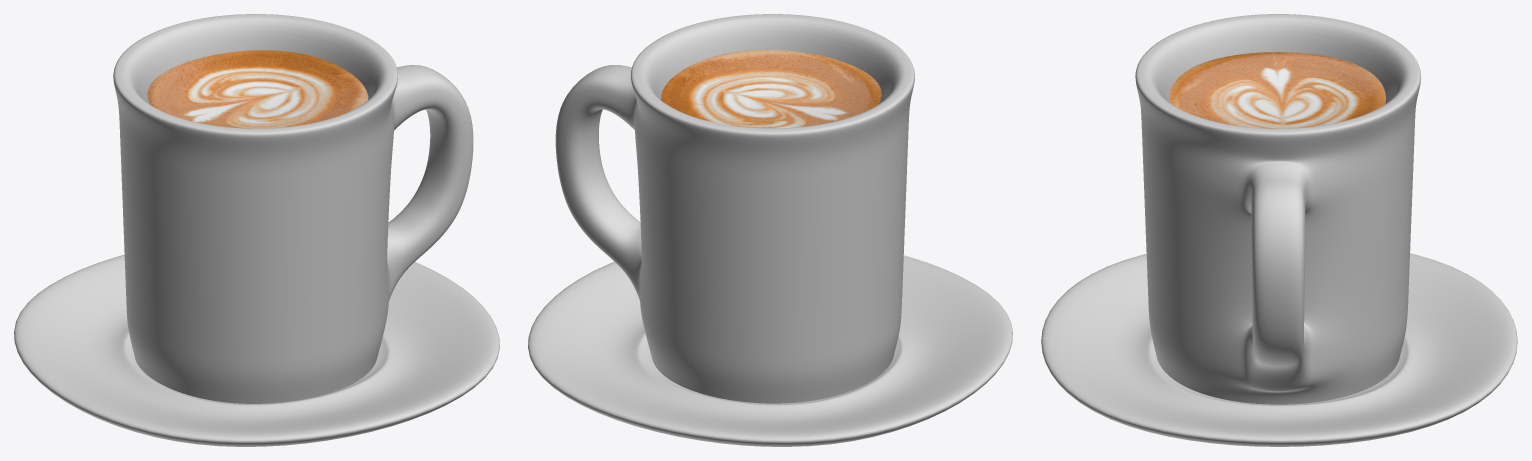
File: latte.glb
3 renders of one model, left to right at view 1: azimuth 30°, elevation 25°; view 2: azimuth 150°, elevation 25°; view 3: azimuth 270°, elevation 25°, orthographic.
Visible parts, largest first — view 1: Mug, Plate Mug, Latte; view 2: Mug, Plate Mug, Latte; view 3: Mug, Plate Mug, Latte.
Part boxes in pixels (x1=…): Mug: x1=113, y1=14, x2=473, y2=403; Plate Mug: x1=14, y1=254, x2=499, y2=446; Latte: x1=147, y1=50, x2=368, y2=128; Mug: x1=555, y1=14, x2=914, y2=403; Plate Mug: x1=528, y1=255, x2=1012, y2=446; Latte: x1=661, y1=49, x2=881, y2=128; Mug: x1=1135, y1=14, x2=1420, y2=404; Plate Mug: x1=1041, y1=253, x2=1517, y2=446; Latte: x1=1169, y1=52, x2=1385, y2=128.
Bounding box in the file's own units: 11.98 × 8.62 × 11.92.
Materials: 2 (1 with a texture image).
